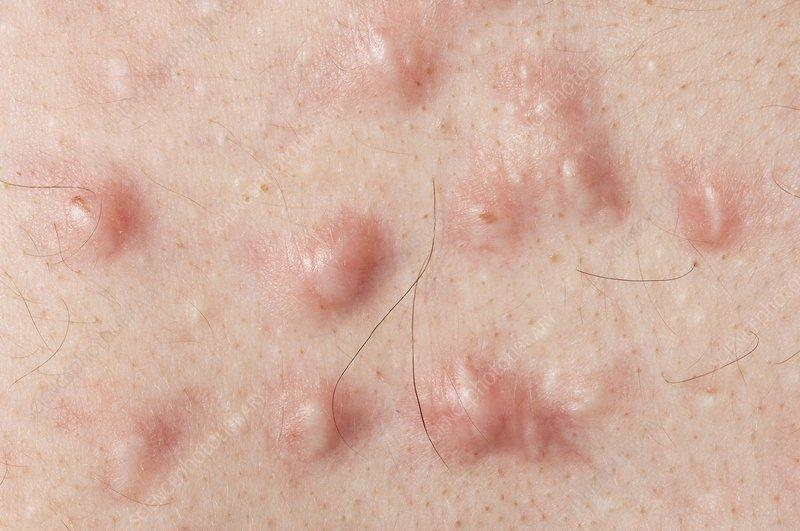keloid: (405, 339, 596, 487), (244, 178, 424, 324), (551, 131, 660, 258), (59, 165, 148, 278), (83, 419, 182, 514), (688, 143, 758, 271), (281, 373, 354, 490)
